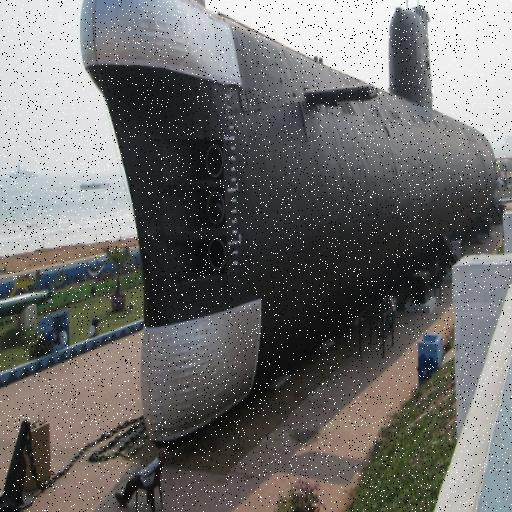submarine: (82, 1, 512, 459)
